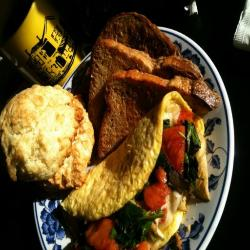bread: (88, 22, 221, 138)
icecream: (2, 85, 100, 194)
omelette: (70, 104, 211, 248)
